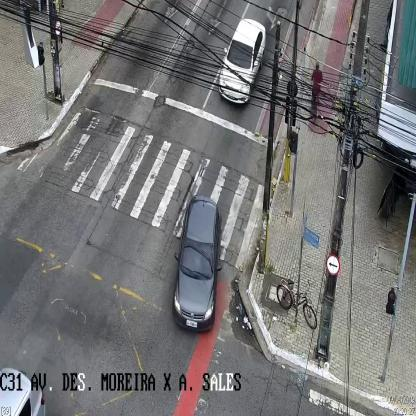bicycle: (276, 278, 316, 330), (310, 62, 322, 122)
car: (173, 195, 221, 333), (218, 18, 265, 104)
